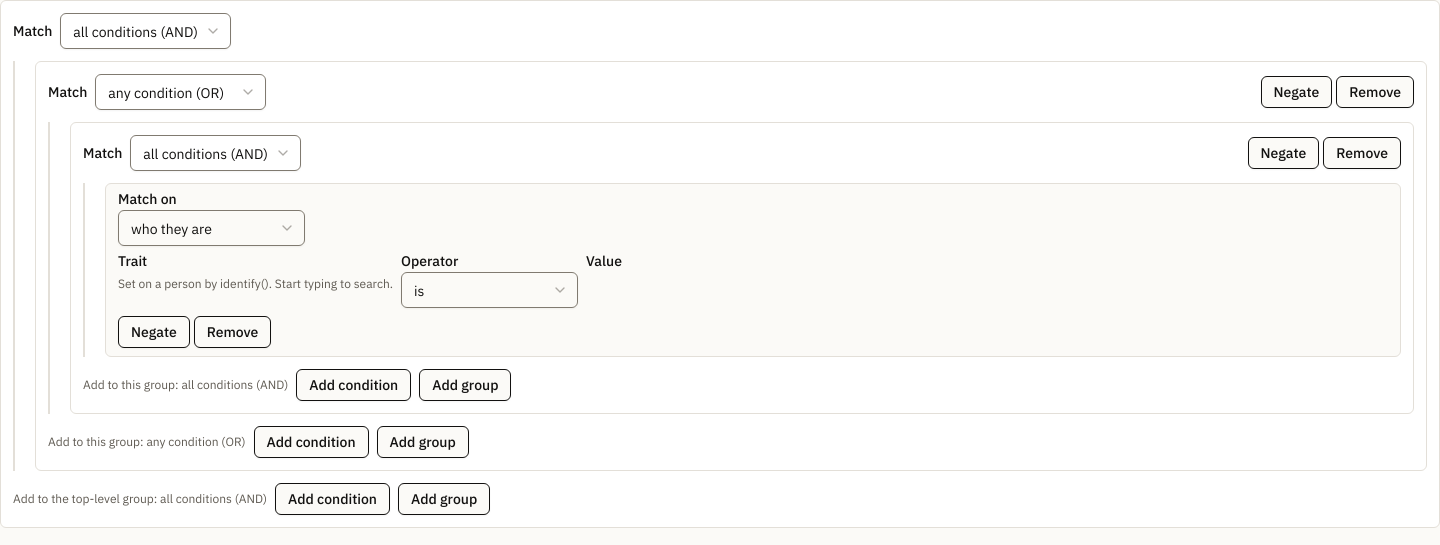
Test: GroupCard -- each Add pair says which group it adds to › follows the group’s own join mode when it changes, rather than the mode it was born with
expect the text "Add to this group: all conditions (AND)" is shown: met, box [83,377,288,393]
Select "any condition (OR)" in the 3rd dropdown labelled "Match": (216, 153) [130,135,301,171]
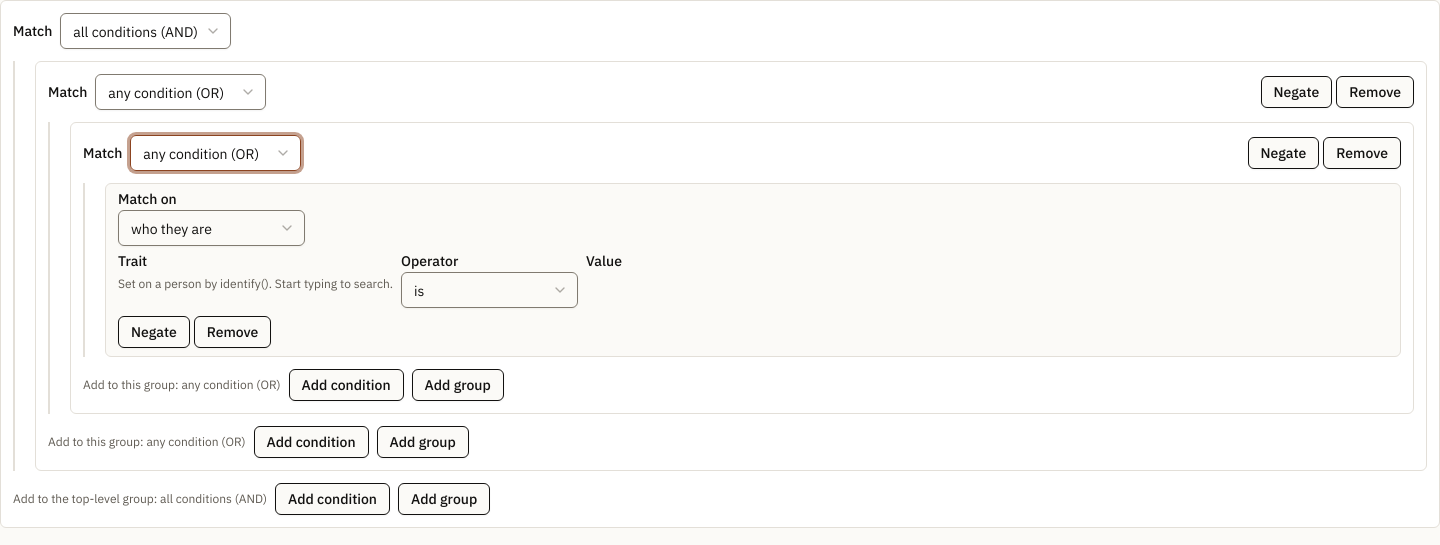
expect the 2nd text "Add to this group: any condition (OR)" is shown: met, box [48,434,246,450]
expect the text "Add to this group: any condition (OR)" below "Trait" is shown: met, box [83,377,281,392]
